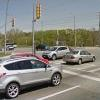cars: (0, 57, 63, 99), (64, 50, 96, 65)
